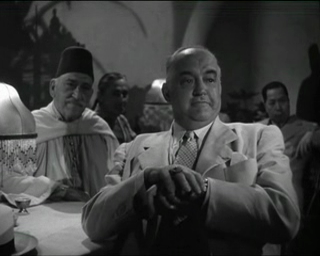face: (174, 65, 221, 121), (61, 77, 92, 113), (266, 95, 290, 122), (108, 86, 128, 112)
ms: (1, 1, 320, 256)
person: (81, 44, 301, 255), (30, 46, 120, 202), (249, 81, 320, 192), (94, 72, 137, 144)
